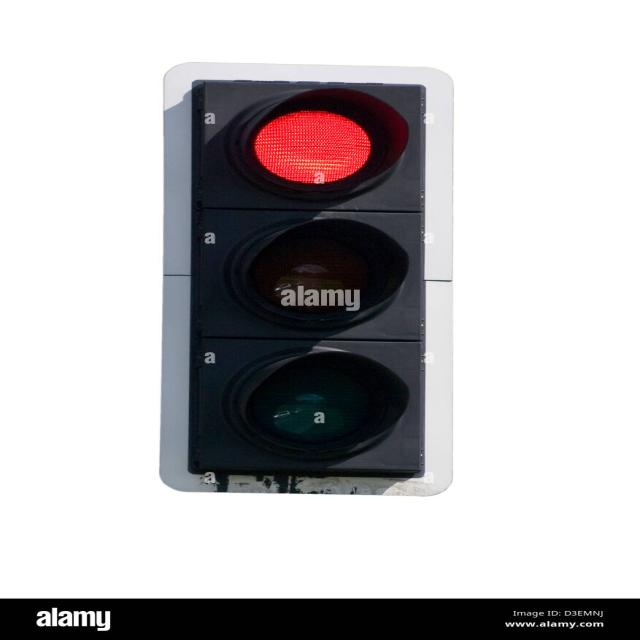red: (246, 74, 437, 191)
